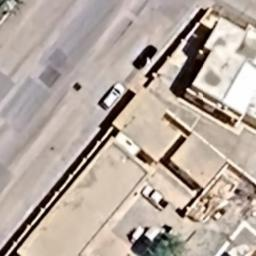pickup: (134, 185, 172, 213)
unknown: (131, 42, 157, 71)
van: (96, 80, 126, 112)
